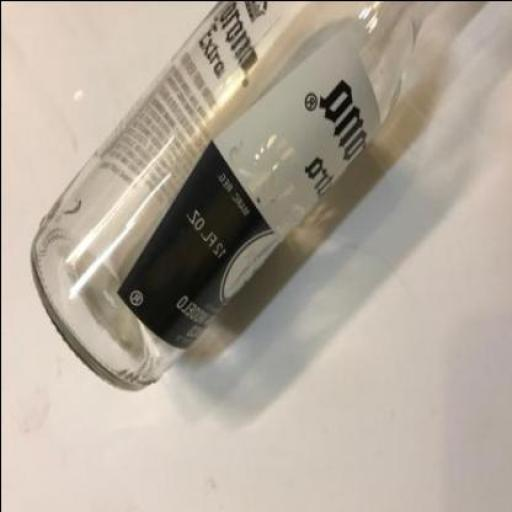glass: (28, 1, 444, 390)
